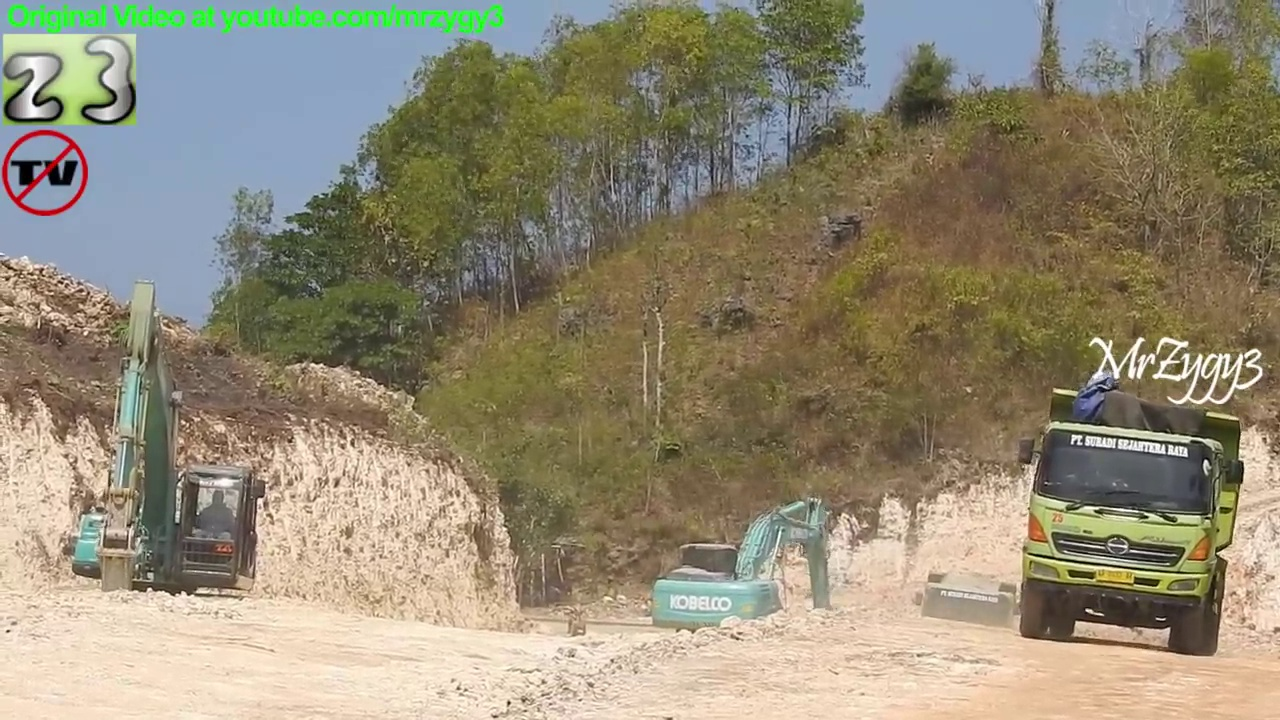excavator: (65, 275, 272, 644), (646, 490, 843, 667)
truck: (1009, 381, 1251, 661), (909, 562, 1029, 681)
